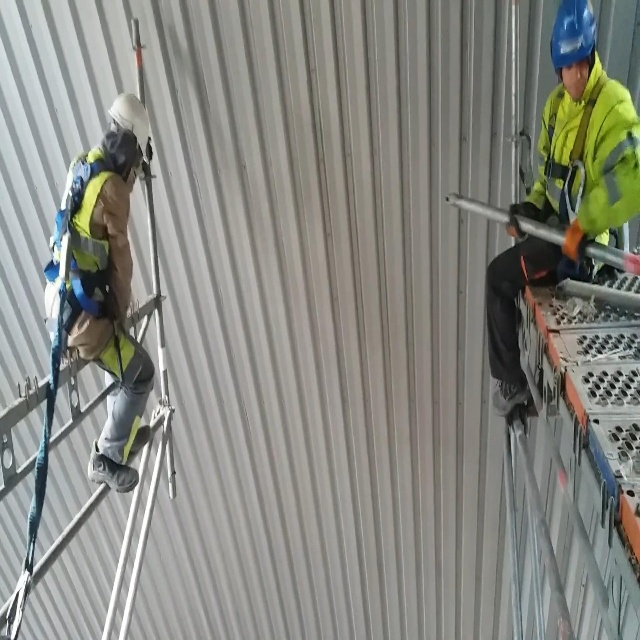Arnes_seguridad: (39, 139, 128, 344), (538, 56, 621, 269)
